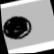correct: (1, 10, 41, 45)
